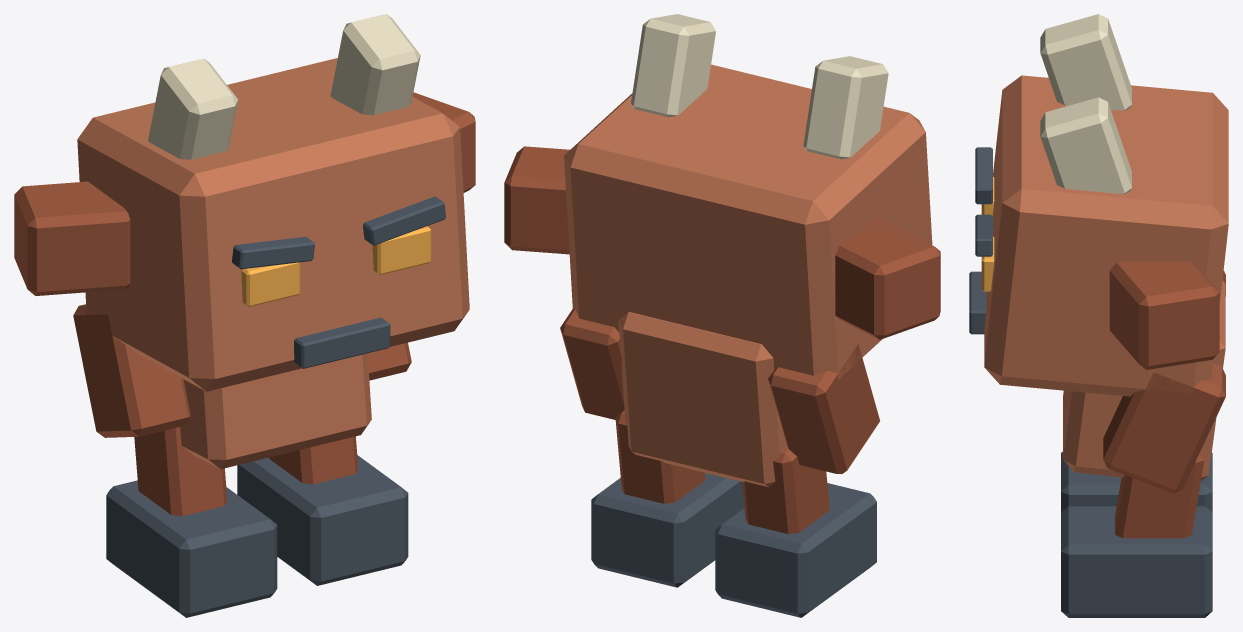
The model's file is EnemyCharger.fbx.
3 views of the same model, side by side, from view 1: azimuth 30°, elevation 25°; view 2: azimuth 150°, elevation 25°; view 3: azimuth 270°, elevation 25° (orthographic). The views are drawn at different scales.
Parts seen in each view (by area): view 1: EnemyCharger; view 2: EnemyCharger; view 3: EnemyCharger.
Part boxes in pixels (x1,y1,x2,y2): EnemyCharger: (14,14,475,617); EnemyCharger: (504,14,940,617); EnemyCharger: (969,14,1228,617).
Bounding box in the file's own units: 95.59 × 110 × 51.33.
